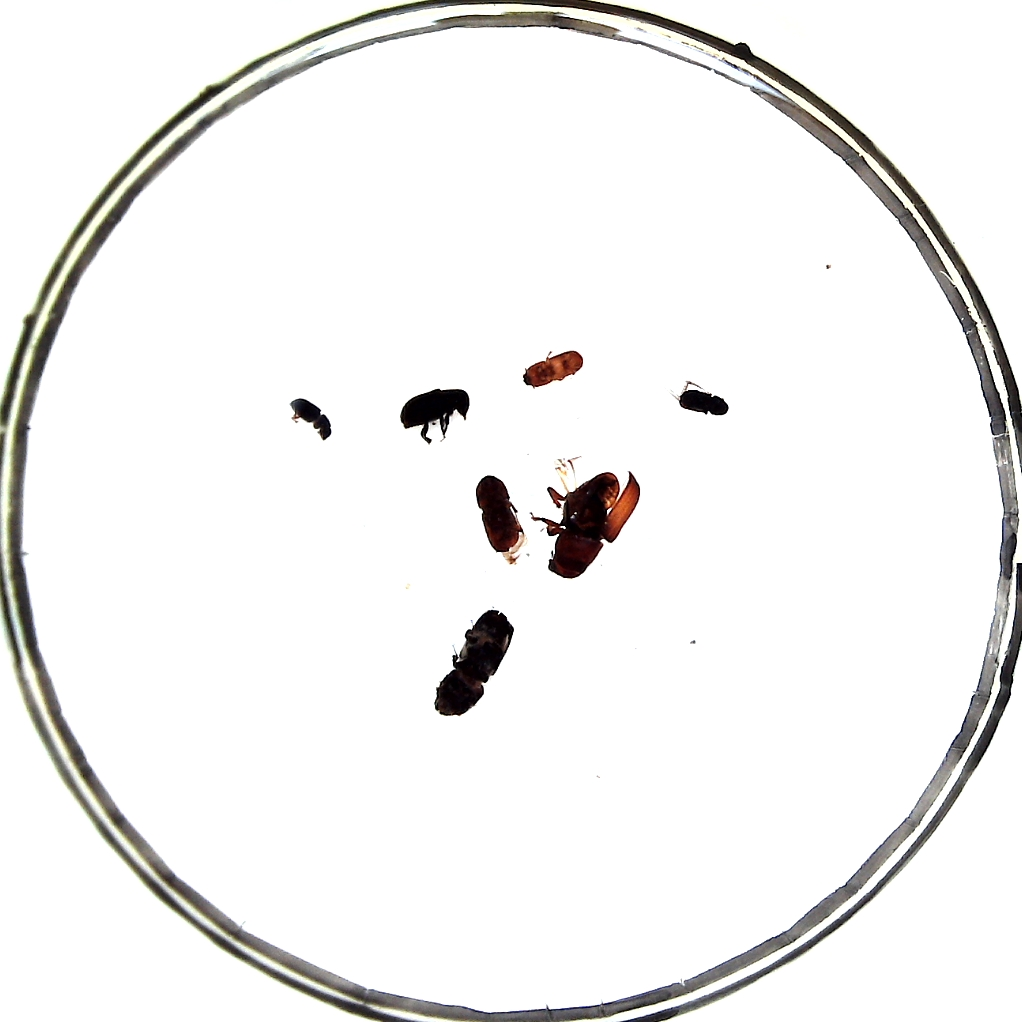Boerner: (430, 609, 514, 717)
Leconte: (542, 470, 639, 579)
Linnaeus: (475, 470, 523, 561)
acuminatus: (524, 349, 583, 387)
armandi: (401, 387, 471, 442)
coleoptera: (289, 390, 329, 443), (675, 388, 730, 421)
